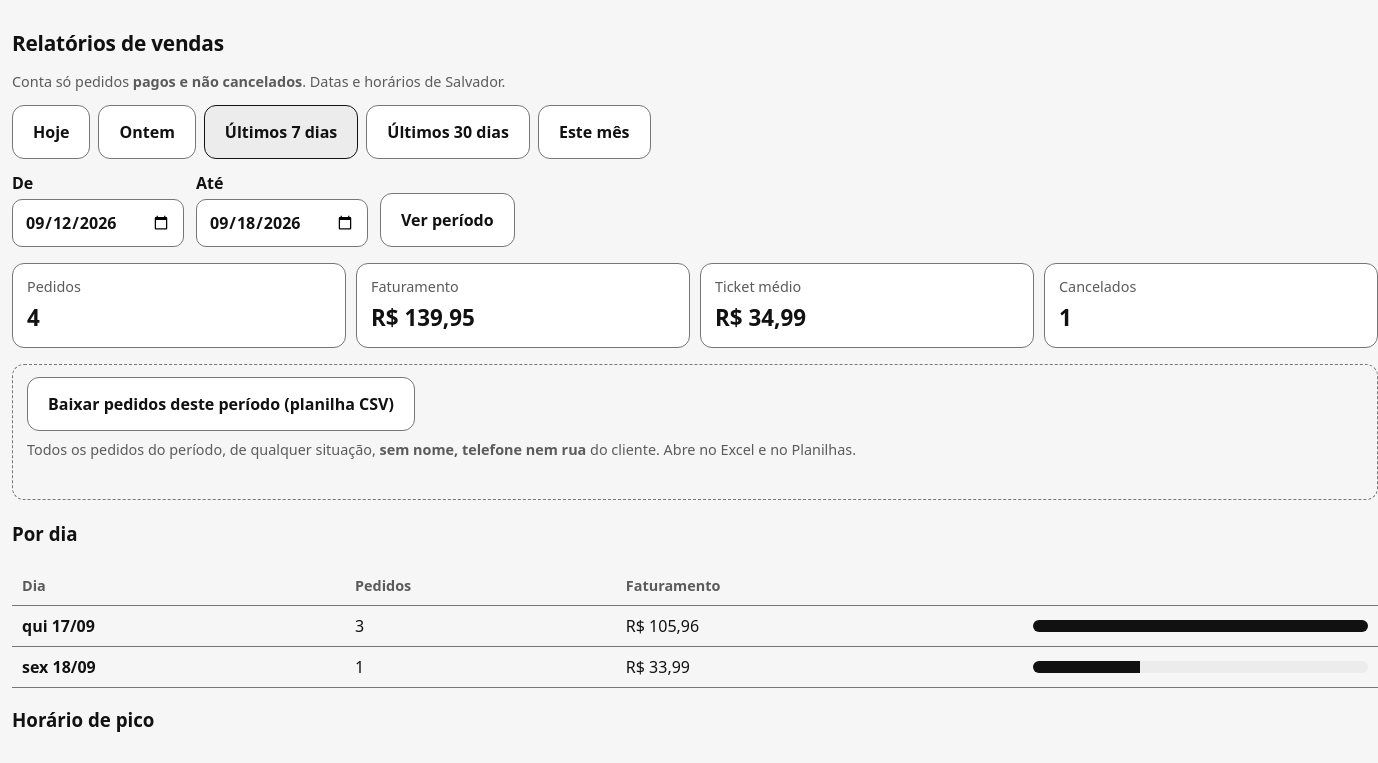
Test case: Admin: exportar pedidos (CSV) › baixa o CSV do período que está na tela, com nome do arquivo e conteúdo certos
expect the text "Ticket médio" is shown: met, box top-left (715, 277), bottom-right (801, 296)
Click the button "Baixar pedidos deste período (planilha CSV)": x=221, y=404 top-left (27, 377), bottom-right (415, 431)
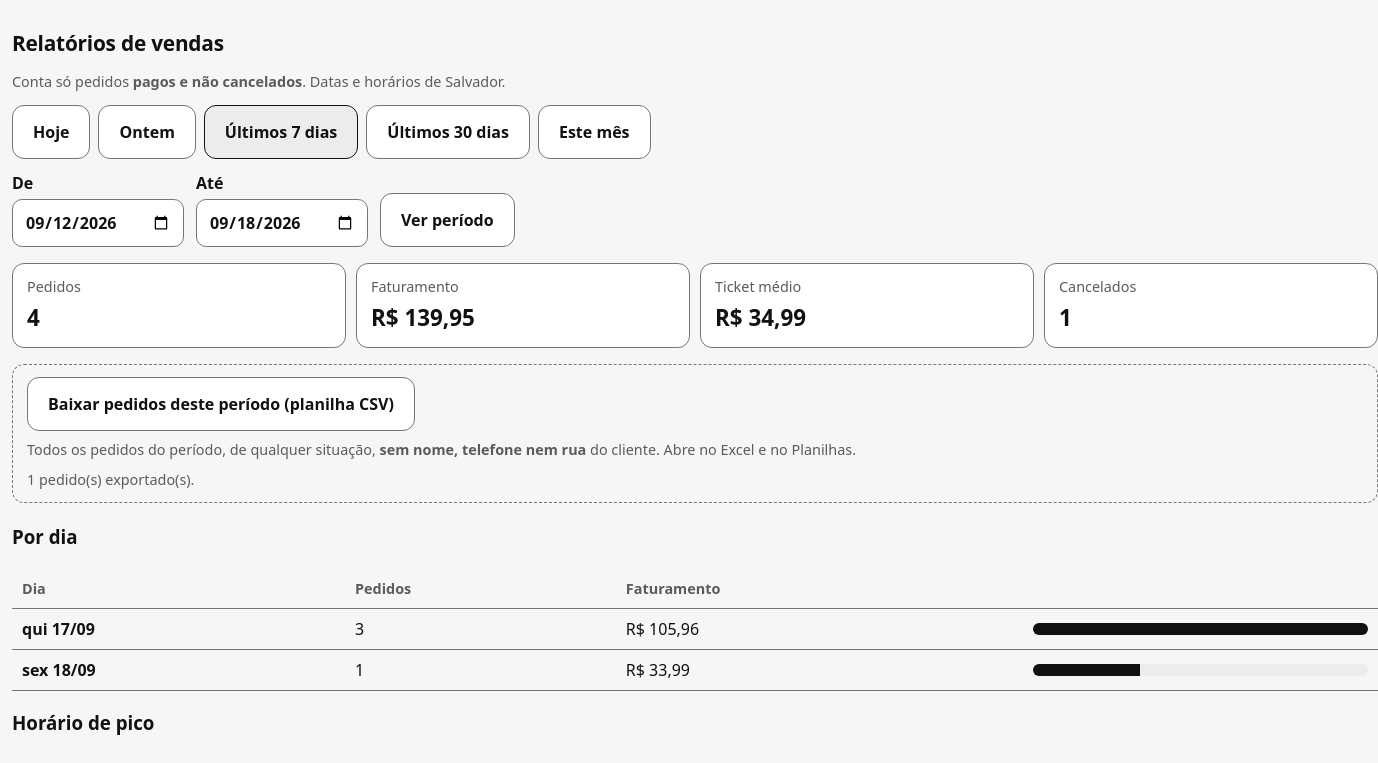
expect the text "1 pedido(s) exportado(s)." is shown: met, box top-left (27, 470), bottom-right (194, 489)
